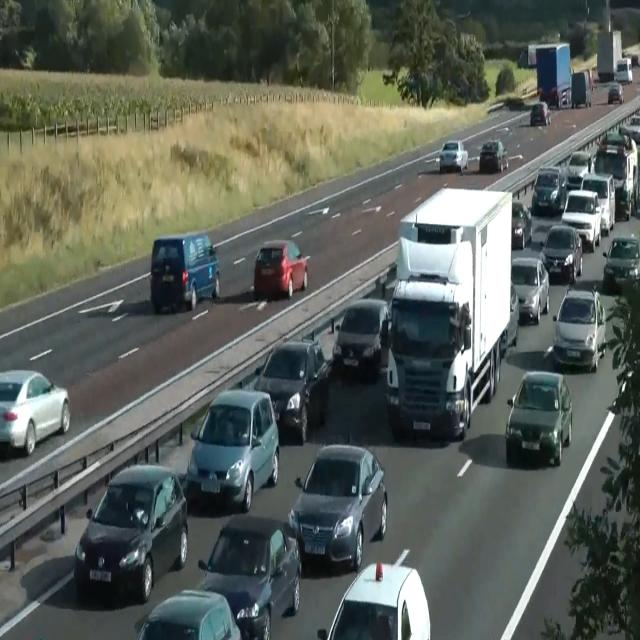bus: (74, 462, 188, 604), (288, 442, 388, 572), (197, 514, 301, 639), (186, 388, 280, 512), (317, 551, 431, 639), (253, 338, 329, 442), (505, 369, 573, 466), (0, 368, 70, 456), (136, 589, 242, 639), (332, 298, 392, 378), (552, 284, 606, 372), (253, 239, 308, 299), (511, 256, 549, 324), (540, 224, 582, 284), (561, 190, 601, 252), (580, 172, 616, 236), (602, 236, 640, 292), (531, 165, 567, 216), (499, 278, 519, 358), (566, 150, 594, 190), (511, 201, 532, 250), (438, 140, 468, 174), (479, 138, 508, 172), (508, 278, 519, 348), (598, 130, 630, 153), (619, 115, 639, 145), (530, 102, 550, 126), (608, 83, 624, 105), (486, 100, 509, 113)
jeep: (150, 231, 220, 313), (592, 144, 637, 217)
minibus: (385, 185, 513, 440), (536, 42, 571, 108), (597, 28, 633, 84), (571, 68, 593, 108), (517, 44, 538, 68), (615, 57, 633, 83)
